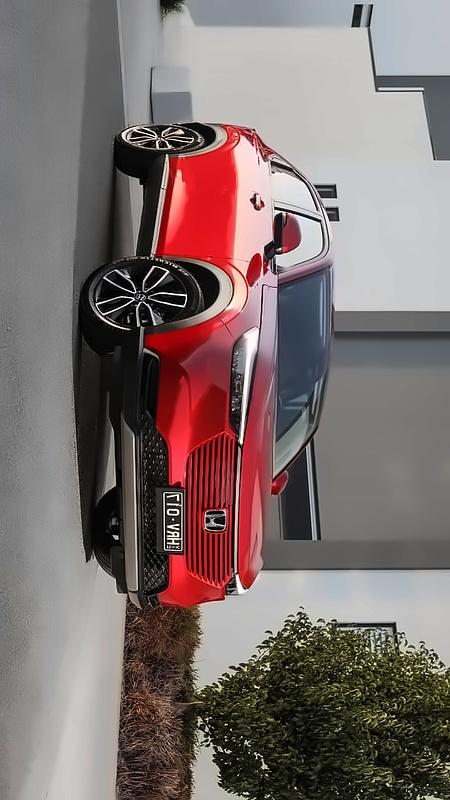Car hood: (232, 280, 281, 593)
Driver-s door - -F-R-: (146, 189, 330, 258)
Fender - -F-R-: (138, 253, 282, 341)
Fender - -R-R-: (184, 121, 264, 151)
Front bumper: (110, 319, 232, 619)
Headlight - -L-: (219, 566, 252, 604)
Headlight - -R-: (225, 320, 267, 450)
Passenger-s door - -R-R-: (157, 151, 323, 205)
Side bumper - -R-: (132, 146, 173, 264)
Side mirror - -L-: (265, 466, 292, 504)
Side mirror - -R-: (255, 208, 304, 258)
